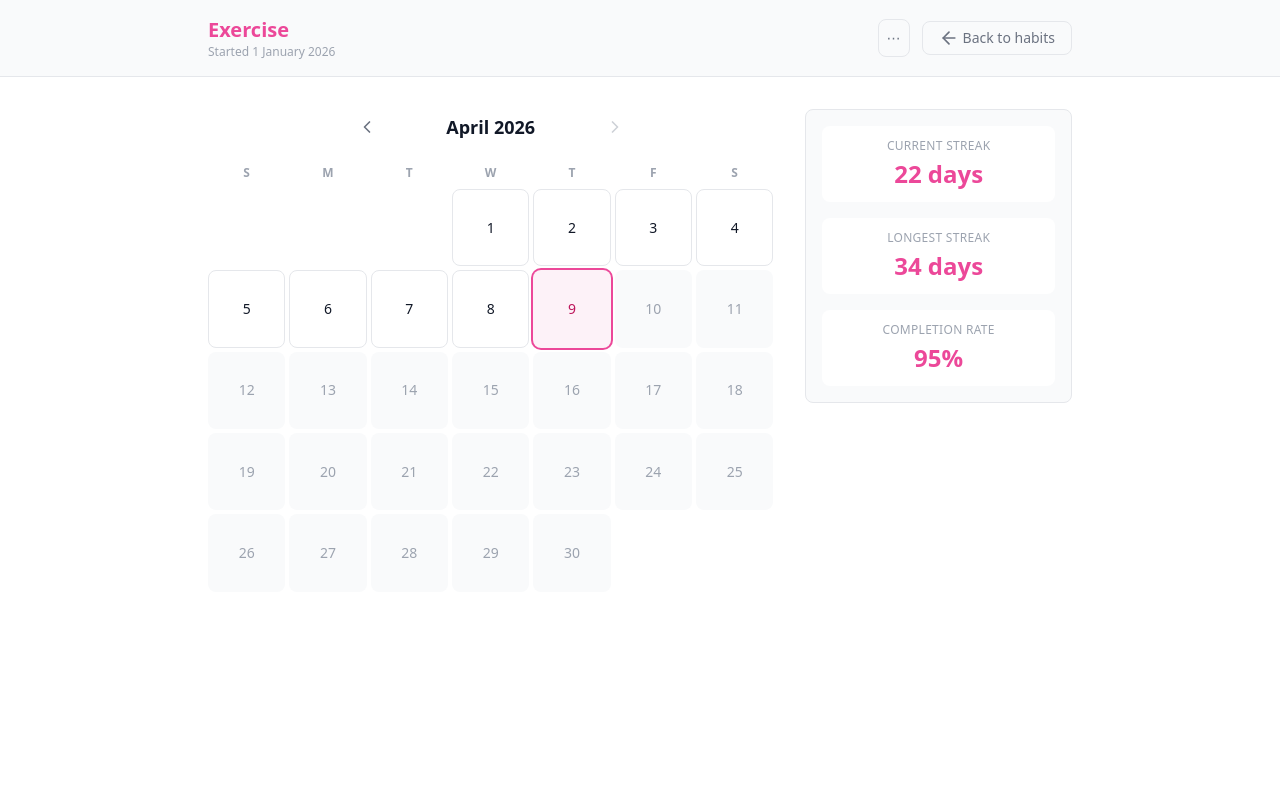
HabitCalendarPage › opens edit modal from dropdown
Expected: the heading "Exercise" is shown, [208,16,289,44]
Step 1. Click the button named "habit settings" → coordinates (894, 38), box [878,19,910,57]
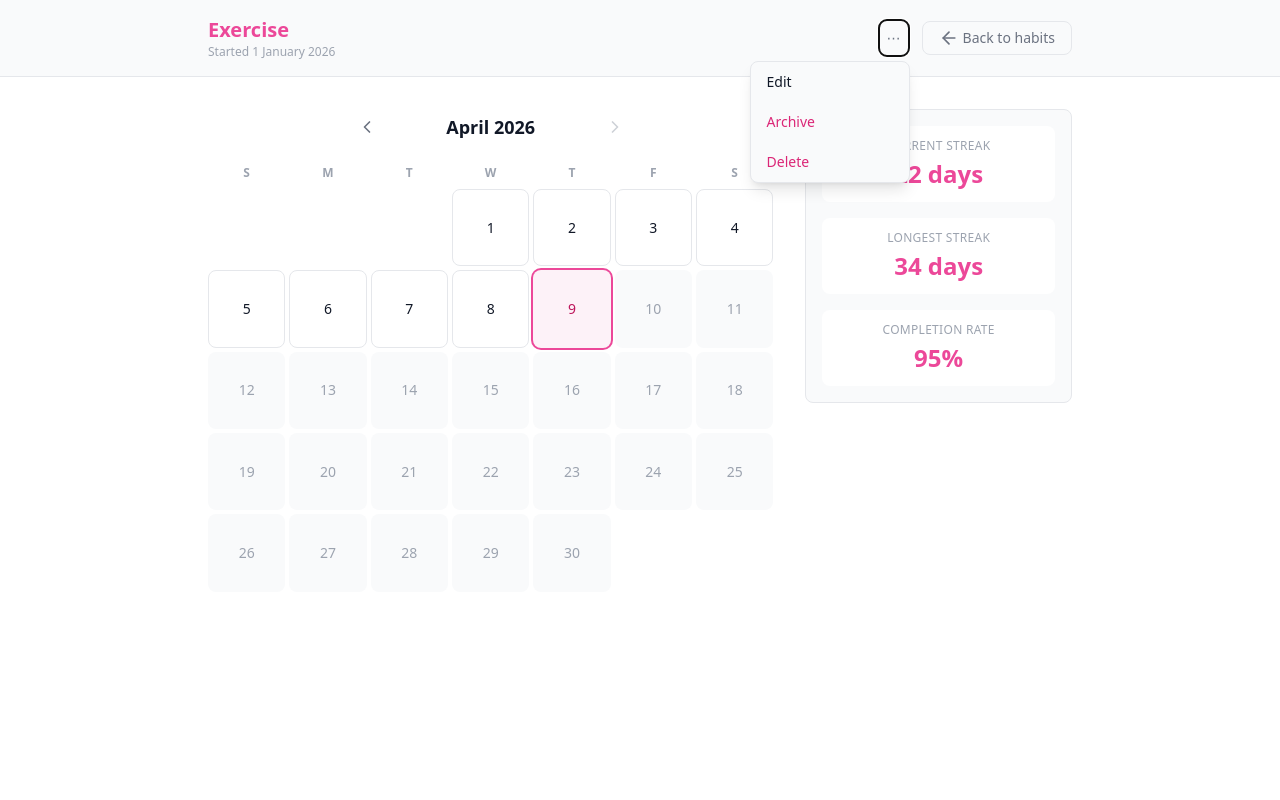
Step 2. Click the menu item "Edit" → coordinates (830, 82), box [750,62,908,102]
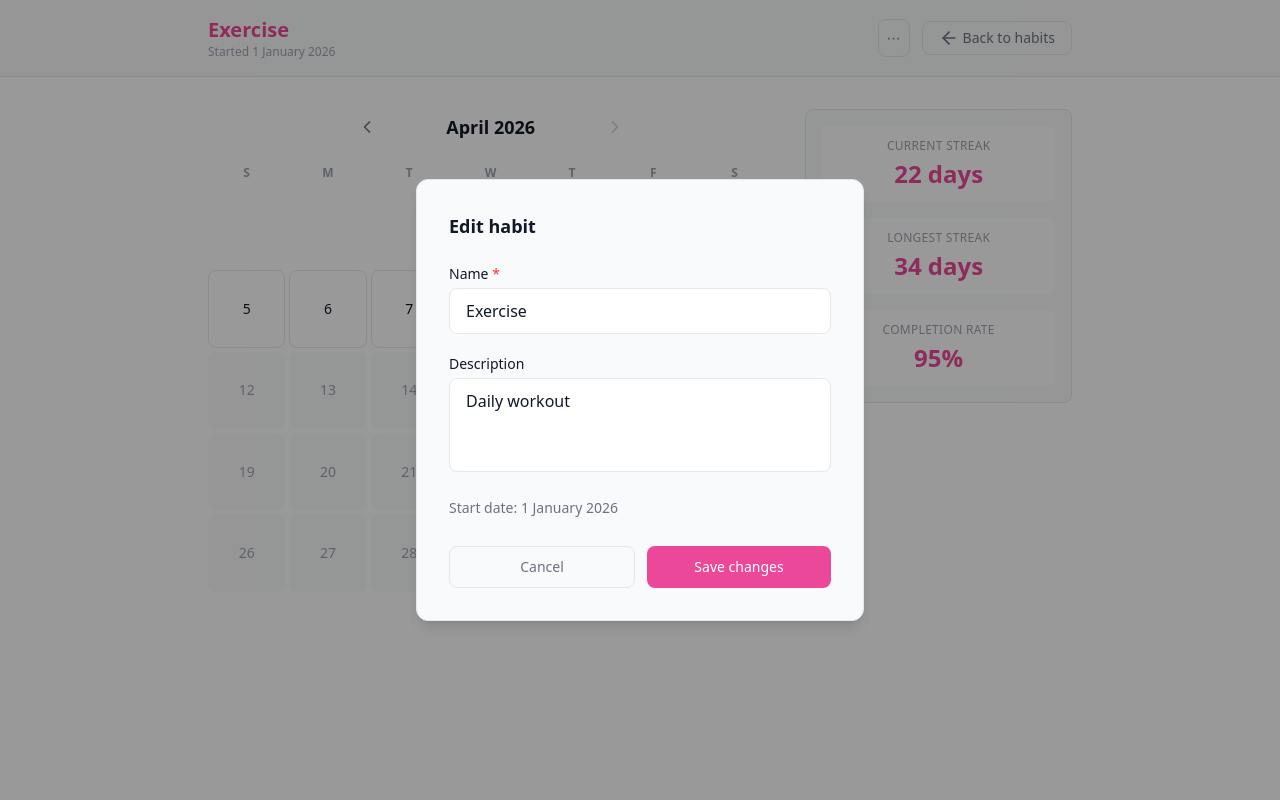
Now the heading "Edit habit" is shown, box [449,214,536,238]
Now the field labelled "Name *" holds "Exercise", box [449,288,831,334]
Now the text box labelled "Description" holds "Daily workout", box [449,378,831,472]
